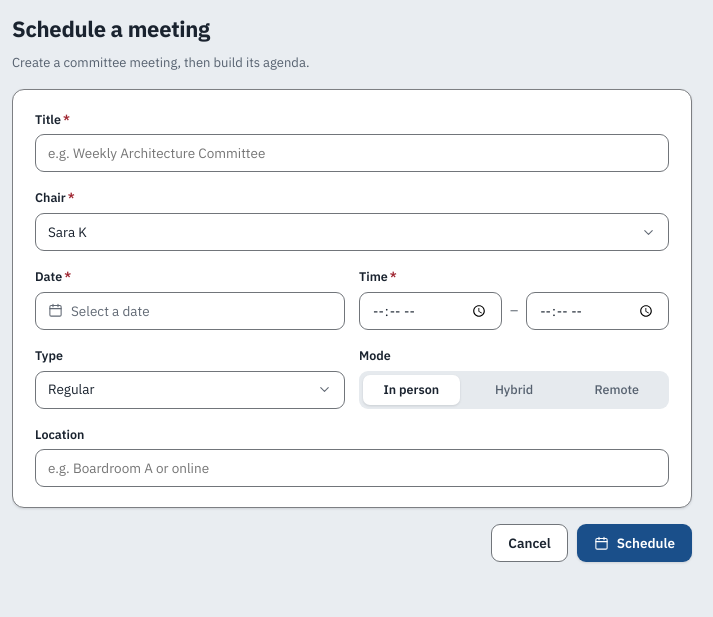
Scenario: SchedulePage (P6 / PR-B) › blocks submit and shows an error when the title is empty
Click the button "Select a date". click: (110,311)
box: [35,292,345,330]
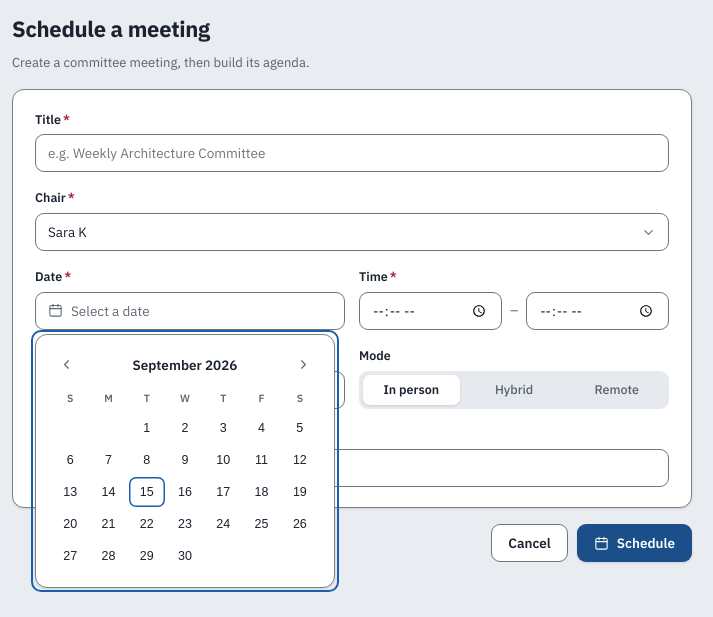
Click the cell "15". click: (147,492)
box: [129,476,165,506]
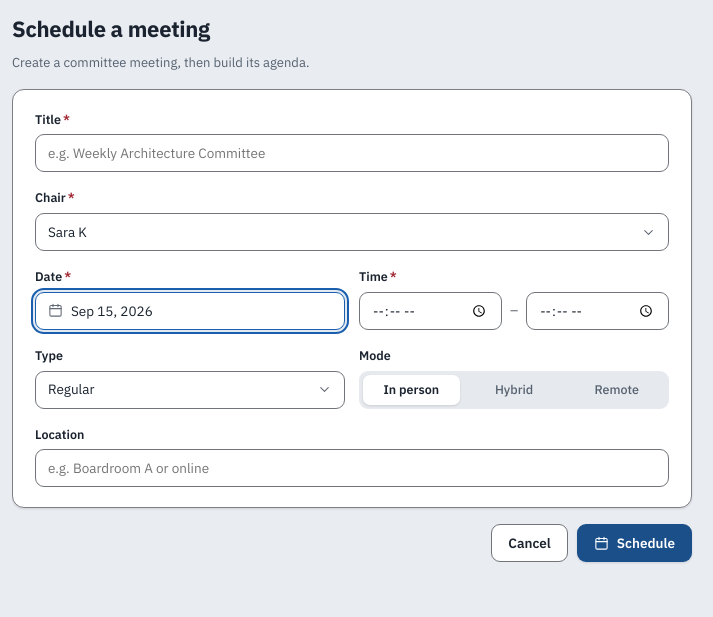
Type "09:00" into the time field named "Start time". click: (430,311)
box: [359,292,502,330]
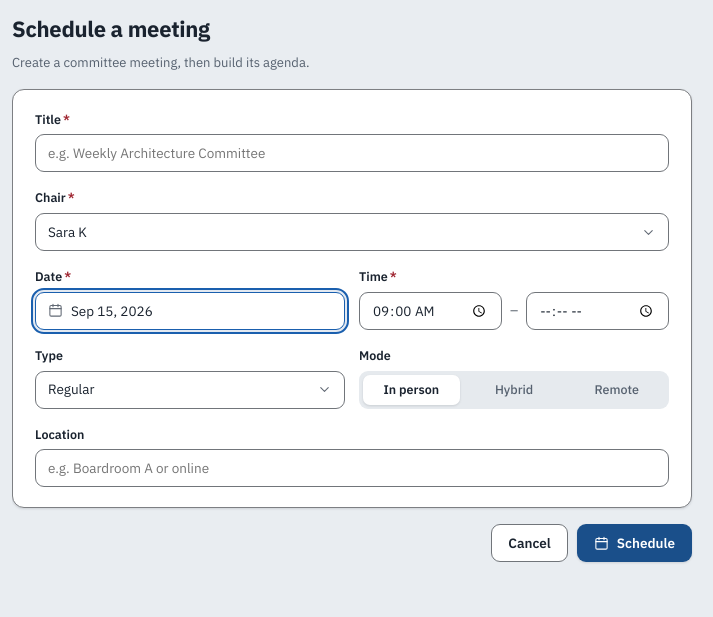
Type "10:30" into the time field named "End time". click: (598,311)
box: [526,292,669,330]
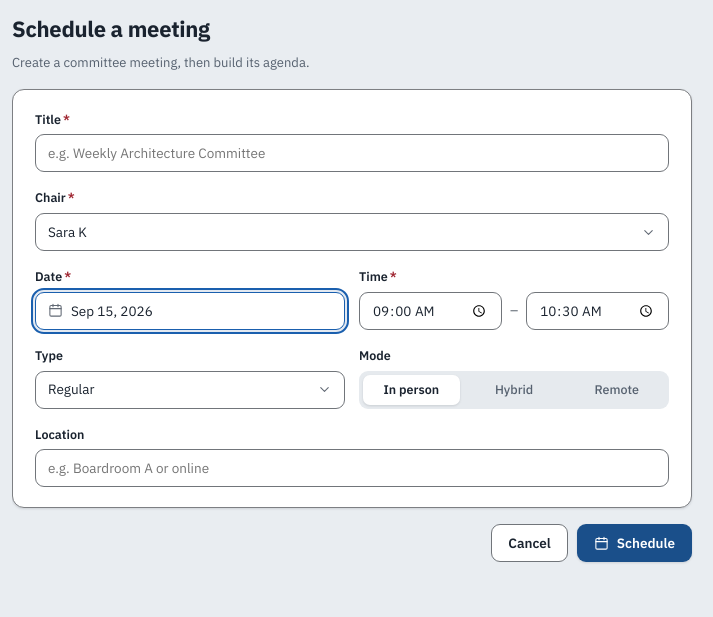
Click the button "Schedule". click: (634,543)
box: [577,524,692,562]
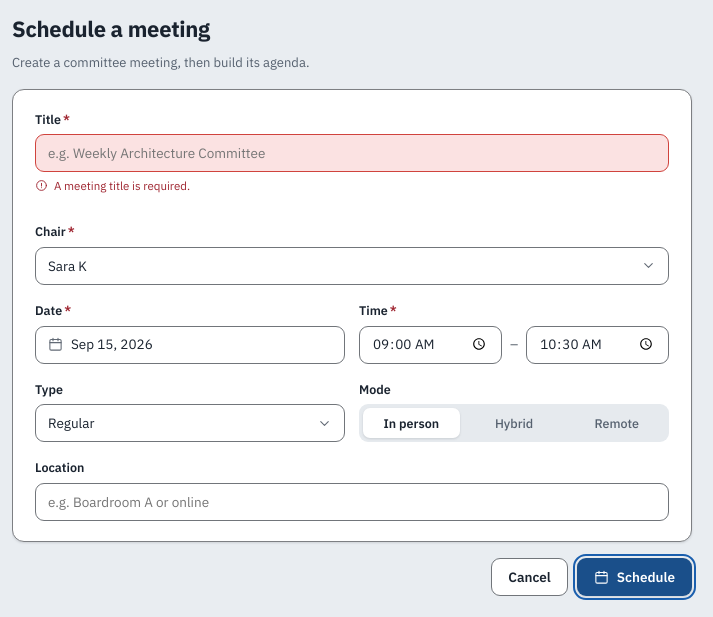
Expected: the text "A meeting title is required." is shown, [35,178,190,193]
